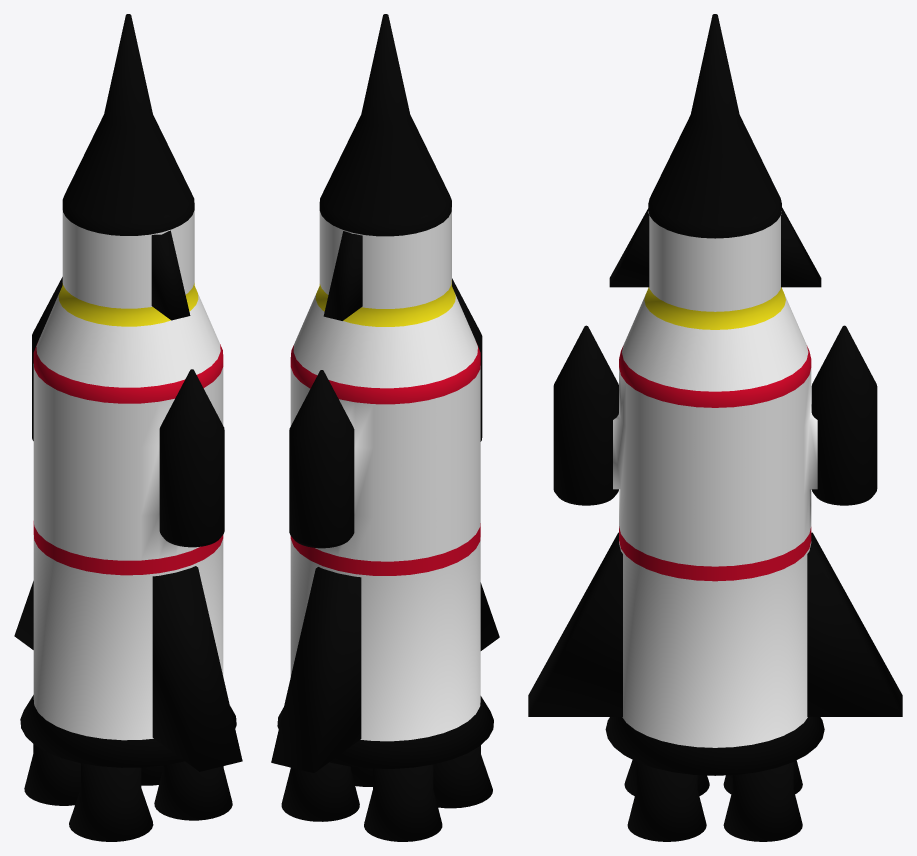
The model's file is Spaceship2.fbx.
3 views of the same model, side by side, from view 1: azimuth 30°, elevation 25°; view 2: azimuth 150°, elevation 25°; view 3: azimuth 270°, elevation 25° (orthographic).
Visible parts, largest first — view 1: Cylinder; view 2: Cylinder; view 3: Cylinder.
Part boxes in pixels (x1=…): Cylinder: x1=14, y1=14, x2=242, y2=841; Cylinder: x1=271, y1=14, x2=499, y2=841; Cylinder: x1=528, y1=14, x2=902, y2=841.
Size of the model in its own units: 228 by 907 by 390.
